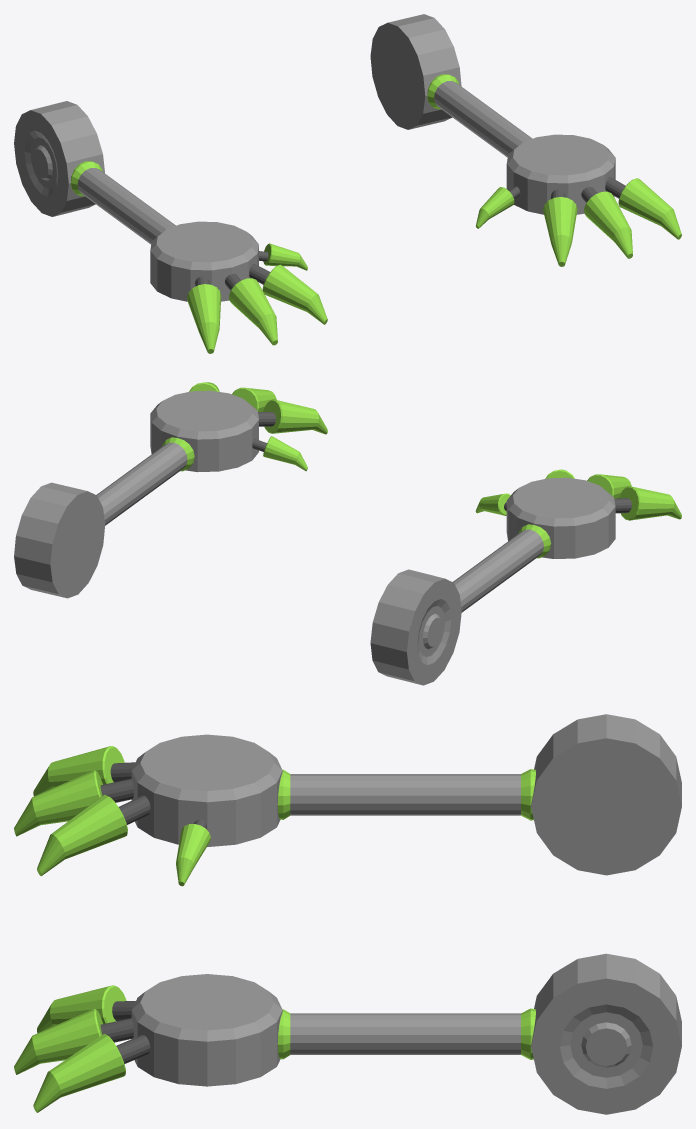
File: armClaws.fbx
3 renders of one model, top to bottom at view 1: azimuth 30°, elevation 25°; view 2: azimuth 150°, elevation 25°; view 3: azimuth 270°, elevation 25°, orthographic. The views are drawn at different scales.
Visible parts, largest first — view 1: Arm - Claws; view 2: Arm - Claws; view 3: Arm - Claws.
Boxes of the visible parts, bbox=[...] form: Arm - Claws: bbox=[14, 14, 681, 353]; Arm - Claws: bbox=[14, 382, 681, 685]; Arm - Claws: bbox=[14, 714, 681, 1114].
Bounding box in the file's own units: 107 × 94.75 × 21.47.
